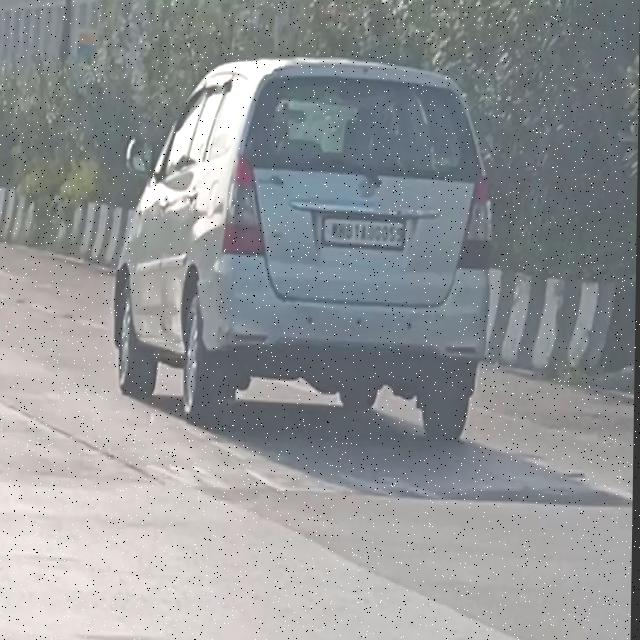plate: (322, 214, 410, 253)
